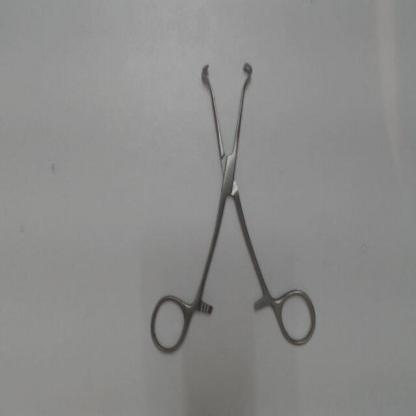Babcock Tissue Forceps: (147, 55, 319, 359)
